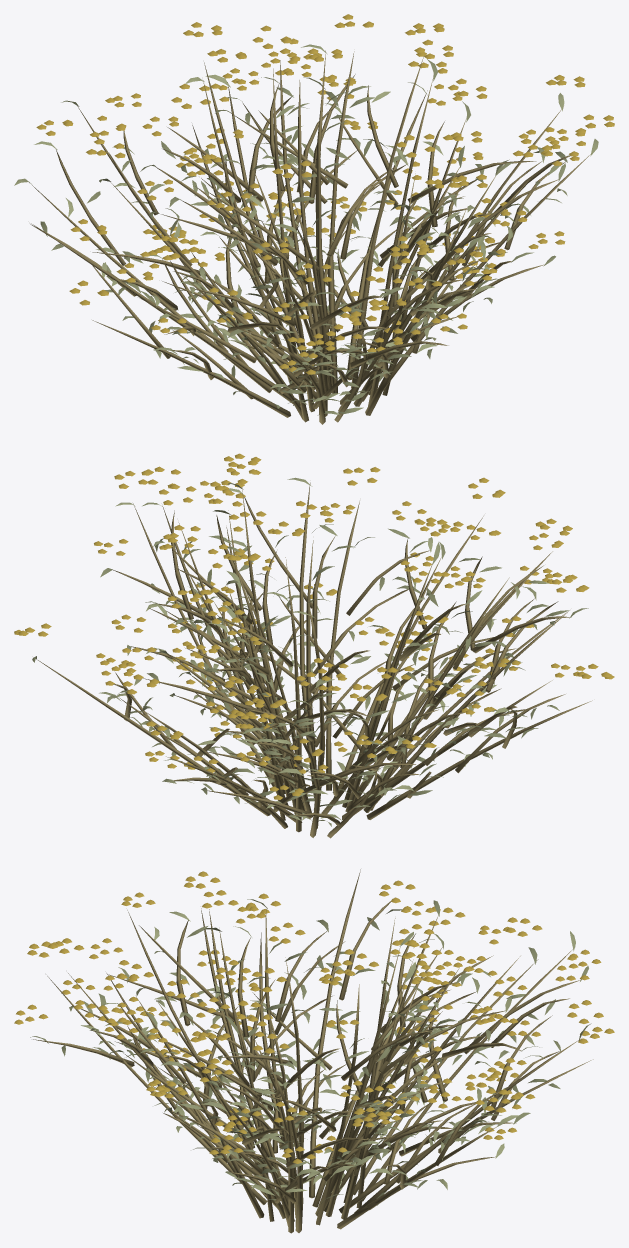
Rendered from Immortelle_Dense_LOD1.fbx.
3 renders of one model, top to bottom at view 1: azimuth 30°, elevation 25°; view 2: azimuth 150°, elevation 25°; view 3: azimuth 270°, elevation 25°, orthographic. The views are drawn at different scales.
Parts seen in each view (by area): view 1: Immortelle_Dense_LOD1; view 2: Immortelle_Dense_LOD1; view 3: Immortelle_Dense_LOD1.
Part boxes in pixels (<box>): Immortelle_Dense_LOD1: <box>14,14,614,424</box>; Immortelle_Dense_LOD1: <box>14,453,614,838</box>; Immortelle_Dense_LOD1: <box>14,869,614,1233</box>.
Bounding box in the file's own units: 67.5 × 41.94 × 69.81.
